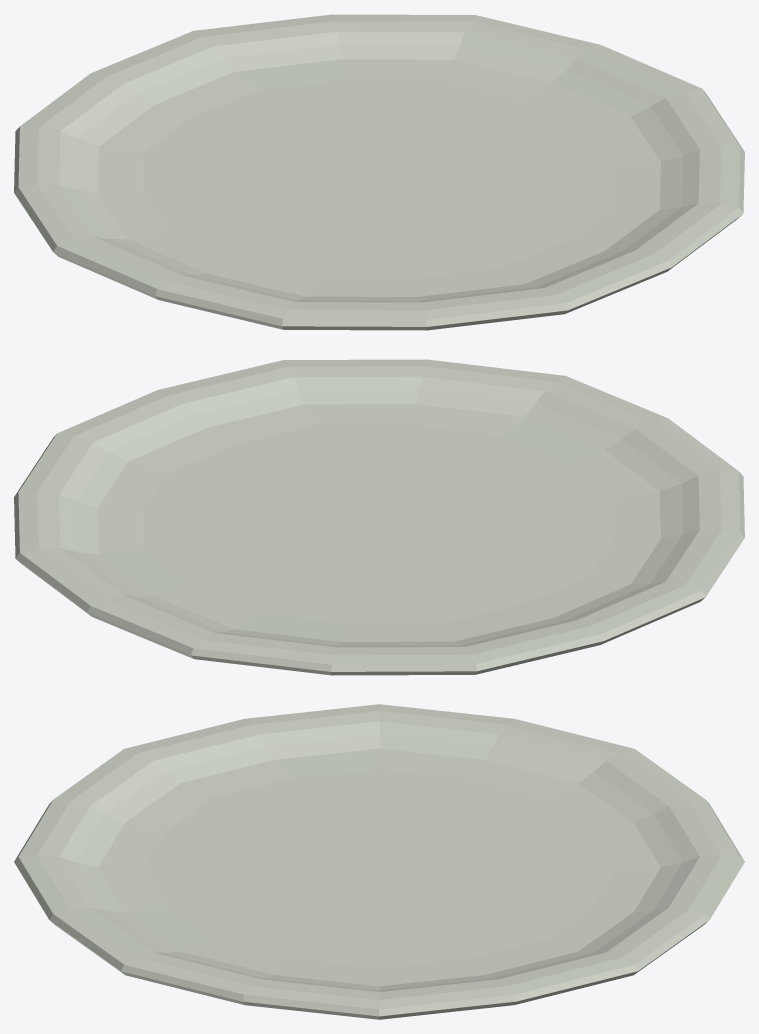
The model's file is Teller.fbx.
The picture shows the model from 3 angles, top to bottom: view 1: azimuth 30°, elevation 25°; view 2: azimuth 150°, elevation 25°; view 3: azimuth 270°, elevation 25°; orthographic projection. The views are drawn at different scales.
Parts seen in each view (by area): view 1: Teller; view 2: Teller; view 3: Teller.
Boxes of the visible parts, box(x1,y1,x2,y2) form: Teller: box(14, 14, 744, 330); Teller: box(14, 359, 744, 675); Teller: box(14, 704, 744, 1019).
Bounding box in the file's own units: 373 × 18.82 × 373.
